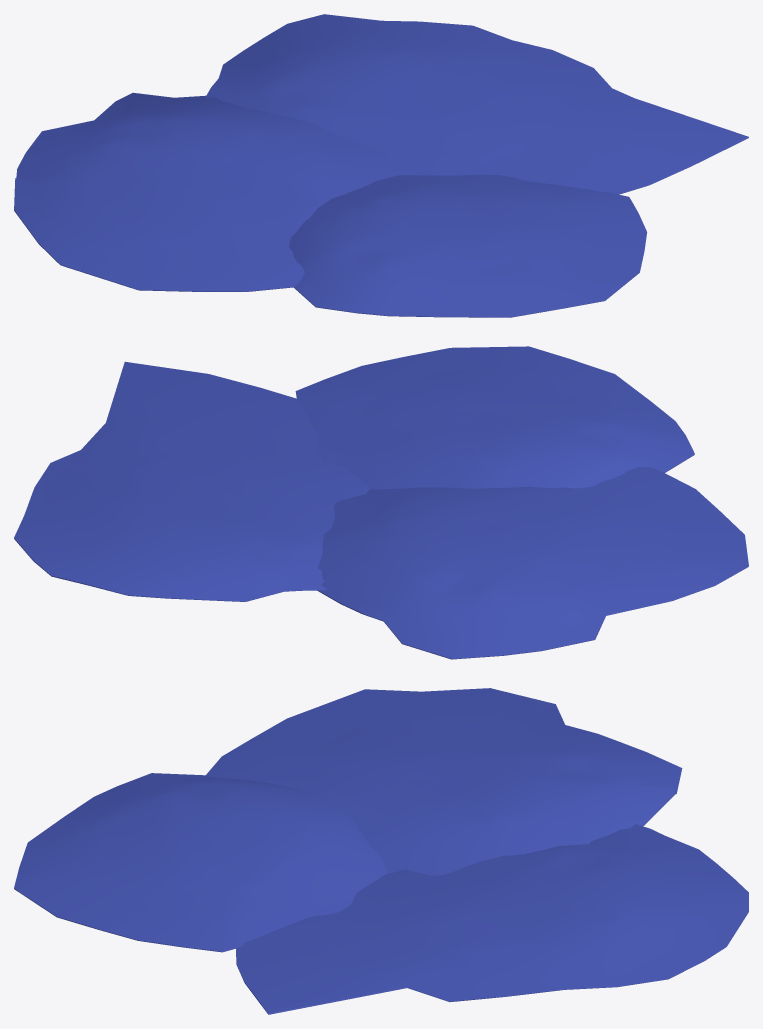
File: Floor_Break_04B_Lod0.fbx
3 renders of one model, top to bottom at view 1: azimuth 30°, elevation 25°; view 2: azimuth 150°, elevation 25°; view 3: azimuth 270°, elevation 25°, orthographic. The views are drawn at different scales.
Visible parts, largest first — view 1: Floor_Break_04B_Lod0; view 2: Floor_Break_04B_Lod0; view 3: Floor_Break_04B_Lod0.
Part boxes in pixels (<box>): Floor_Break_04B_Lod0: <box>14,14,748,317</box>; Floor_Break_04B_Lod0: <box>14,346,748,659</box>; Floor_Break_04B_Lod0: <box>14,688,748,1014</box>.
Bounding box in the file's own units: 837 × 36.6 × 791.
